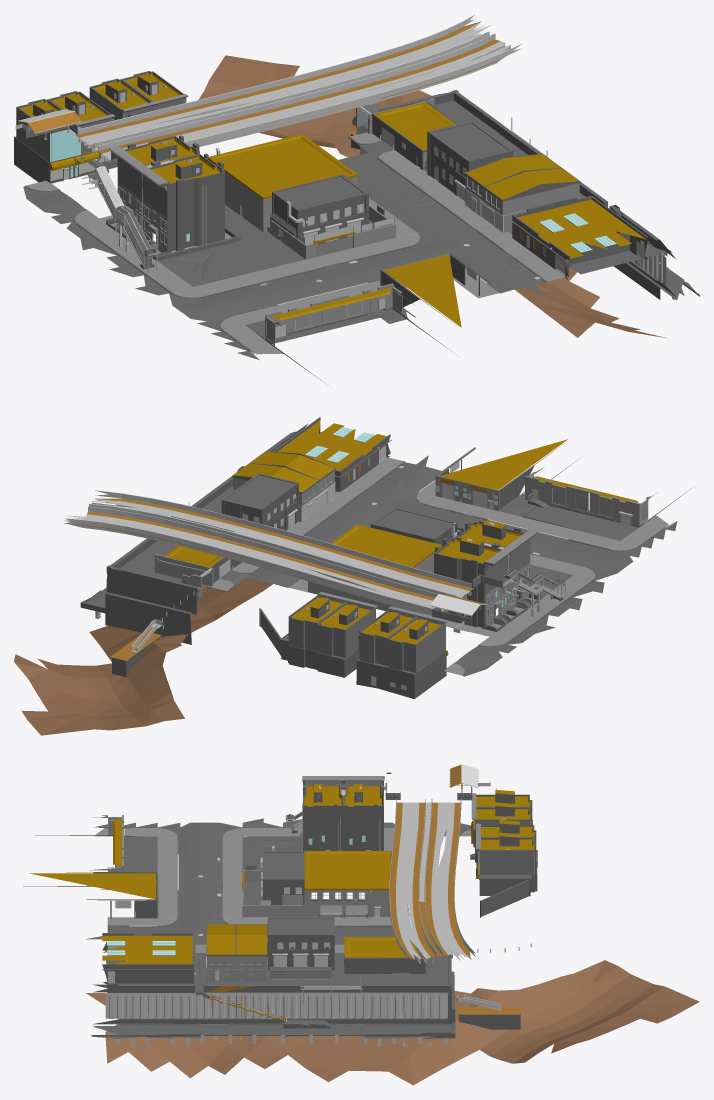
Rendered from bronx_e_7.FBX.
The picture shows the model from 3 angles, top to bottom: view 1: azimuth 30°, elevation 25°; view 2: azimuth 150°, elevation 25°; view 3: azimuth 270°, elevation 25°; orthographic projection. The views are drawn at different scales.
Parts seen in each view (by area): view 1: unnamed, null; view 2: unnamed, null; view 3: unnamed, null.
Part boxes in pixels (x1,y1,x2,y2): unnamed: [14, 15, 699, 383]; null: [259, 44, 577, 288]; unnamed: [14, 417, 694, 735]; null: [90, 473, 370, 631]; unnamed: [23, 764, 699, 1085]; null: [227, 854, 437, 1084].
Bounding box in the file's own units: 128 × 47.56 × 194.
